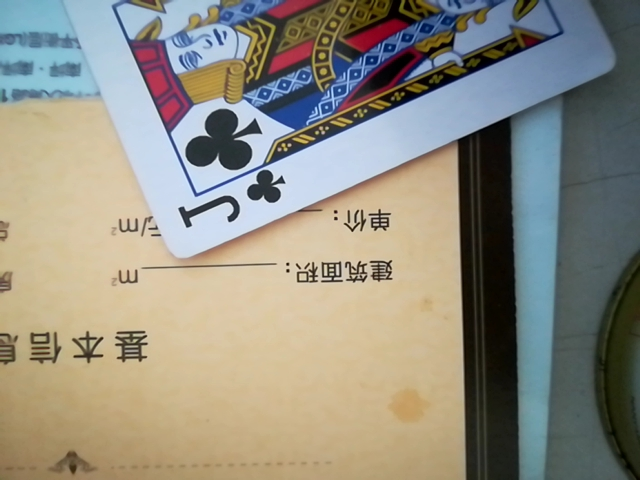mh j: (48, 1, 614, 258)
